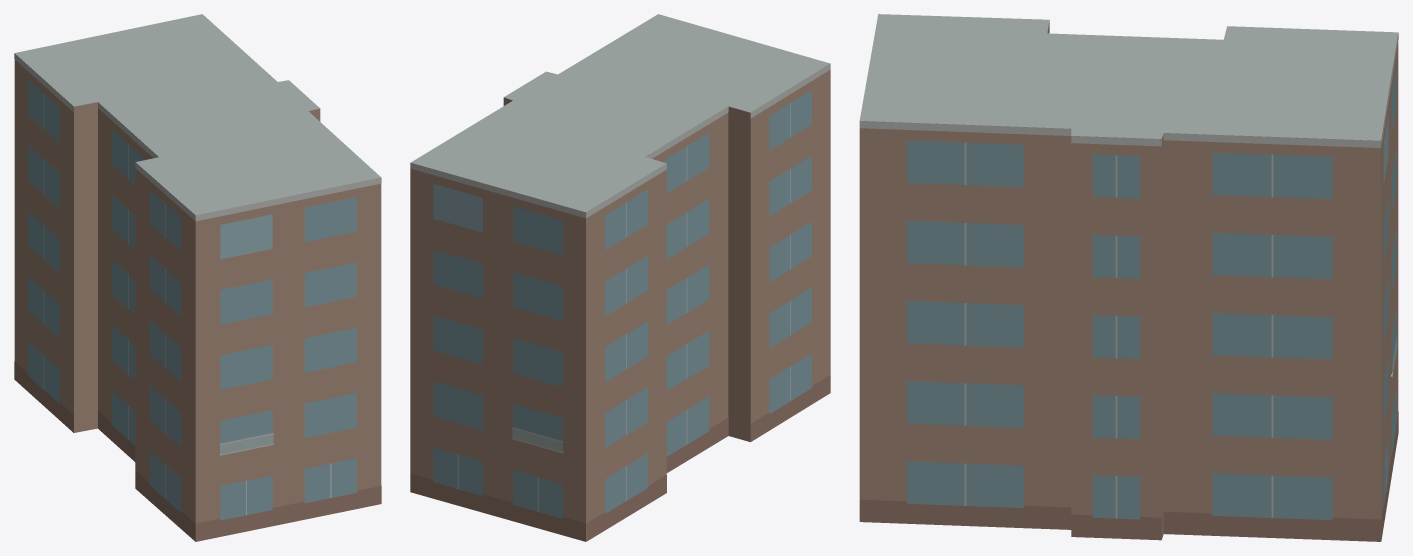
Rendered from survey-upis-32753210.glb.
3 views of the same model, side by side, from view 1: azimuth 30°, elevation 25°; view 2: azimuth 150°, elevation 25°; view 3: azimuth 270°, elevation 25° (orthographic). The views are drawn at different scales.
Visible parts, largest first — view 1: survey-upis-32753210.tmp; view 2: survey-upis-32753210.tmp; view 3: survey-upis-32753210.tmp.
Part boxes in pixels (x1,y1,x2,y2): survey-upis-32753210.tmp: (14,14,381,541); survey-upis-32753210.tmp: (410,14,830,541); survey-upis-32753210.tmp: (859,14,1398,541).
Bounding box in the file's own units: 9.06 × 13.35 × 16.26.
